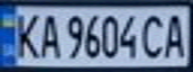0: (100, 11, 121, 60)
4: (118, 11, 142, 60)
6: (81, 11, 103, 60)
9: (60, 11, 84, 60)
A: (160, 10, 190, 60), (36, 10, 60, 60)
C: (139, 11, 169, 60)
K: (9, 9, 42, 60)
